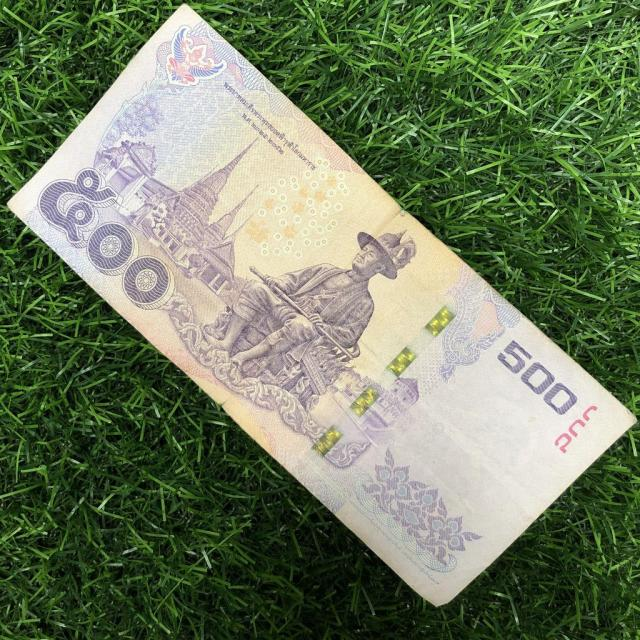THAI500: (9, 8, 634, 605)
